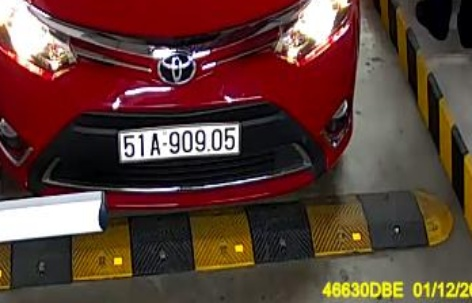plate: (115, 122, 247, 162)
